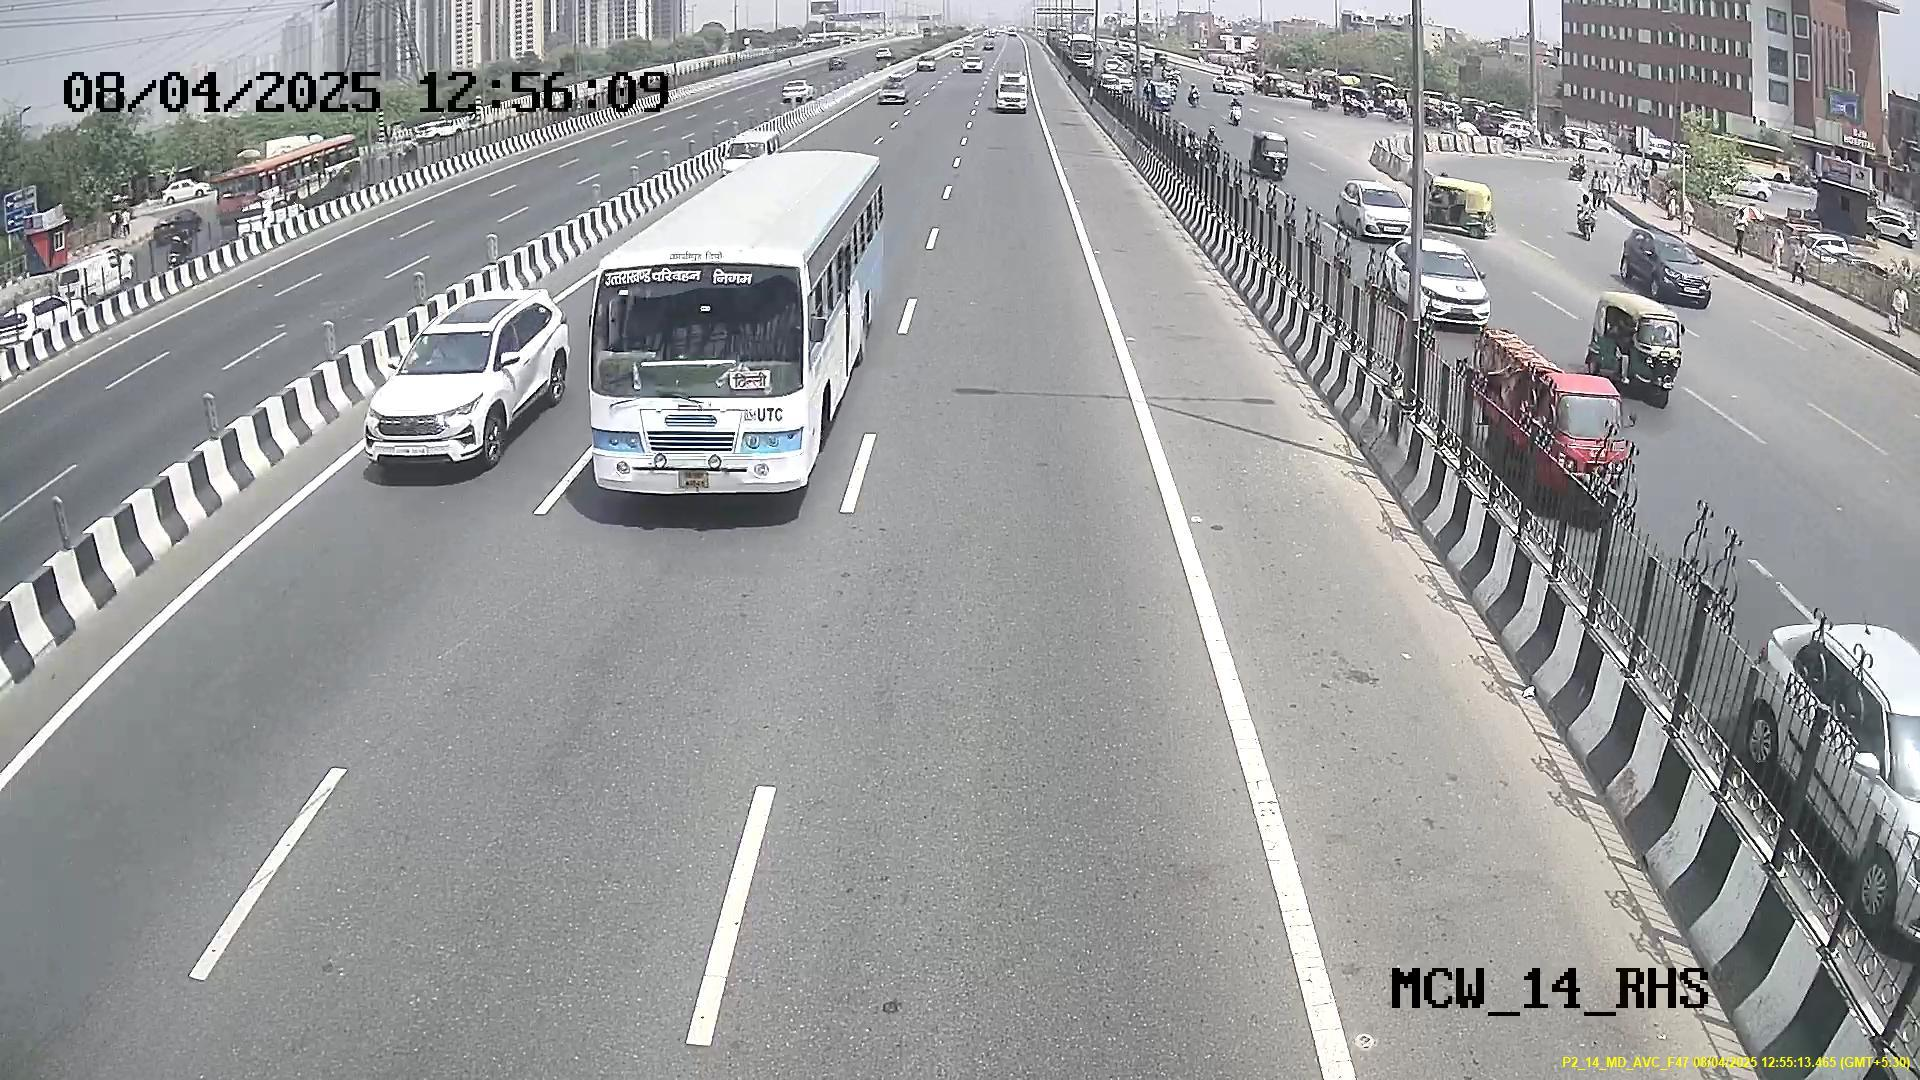bus: (595, 199, 840, 506)
car: (363, 314, 524, 473)
